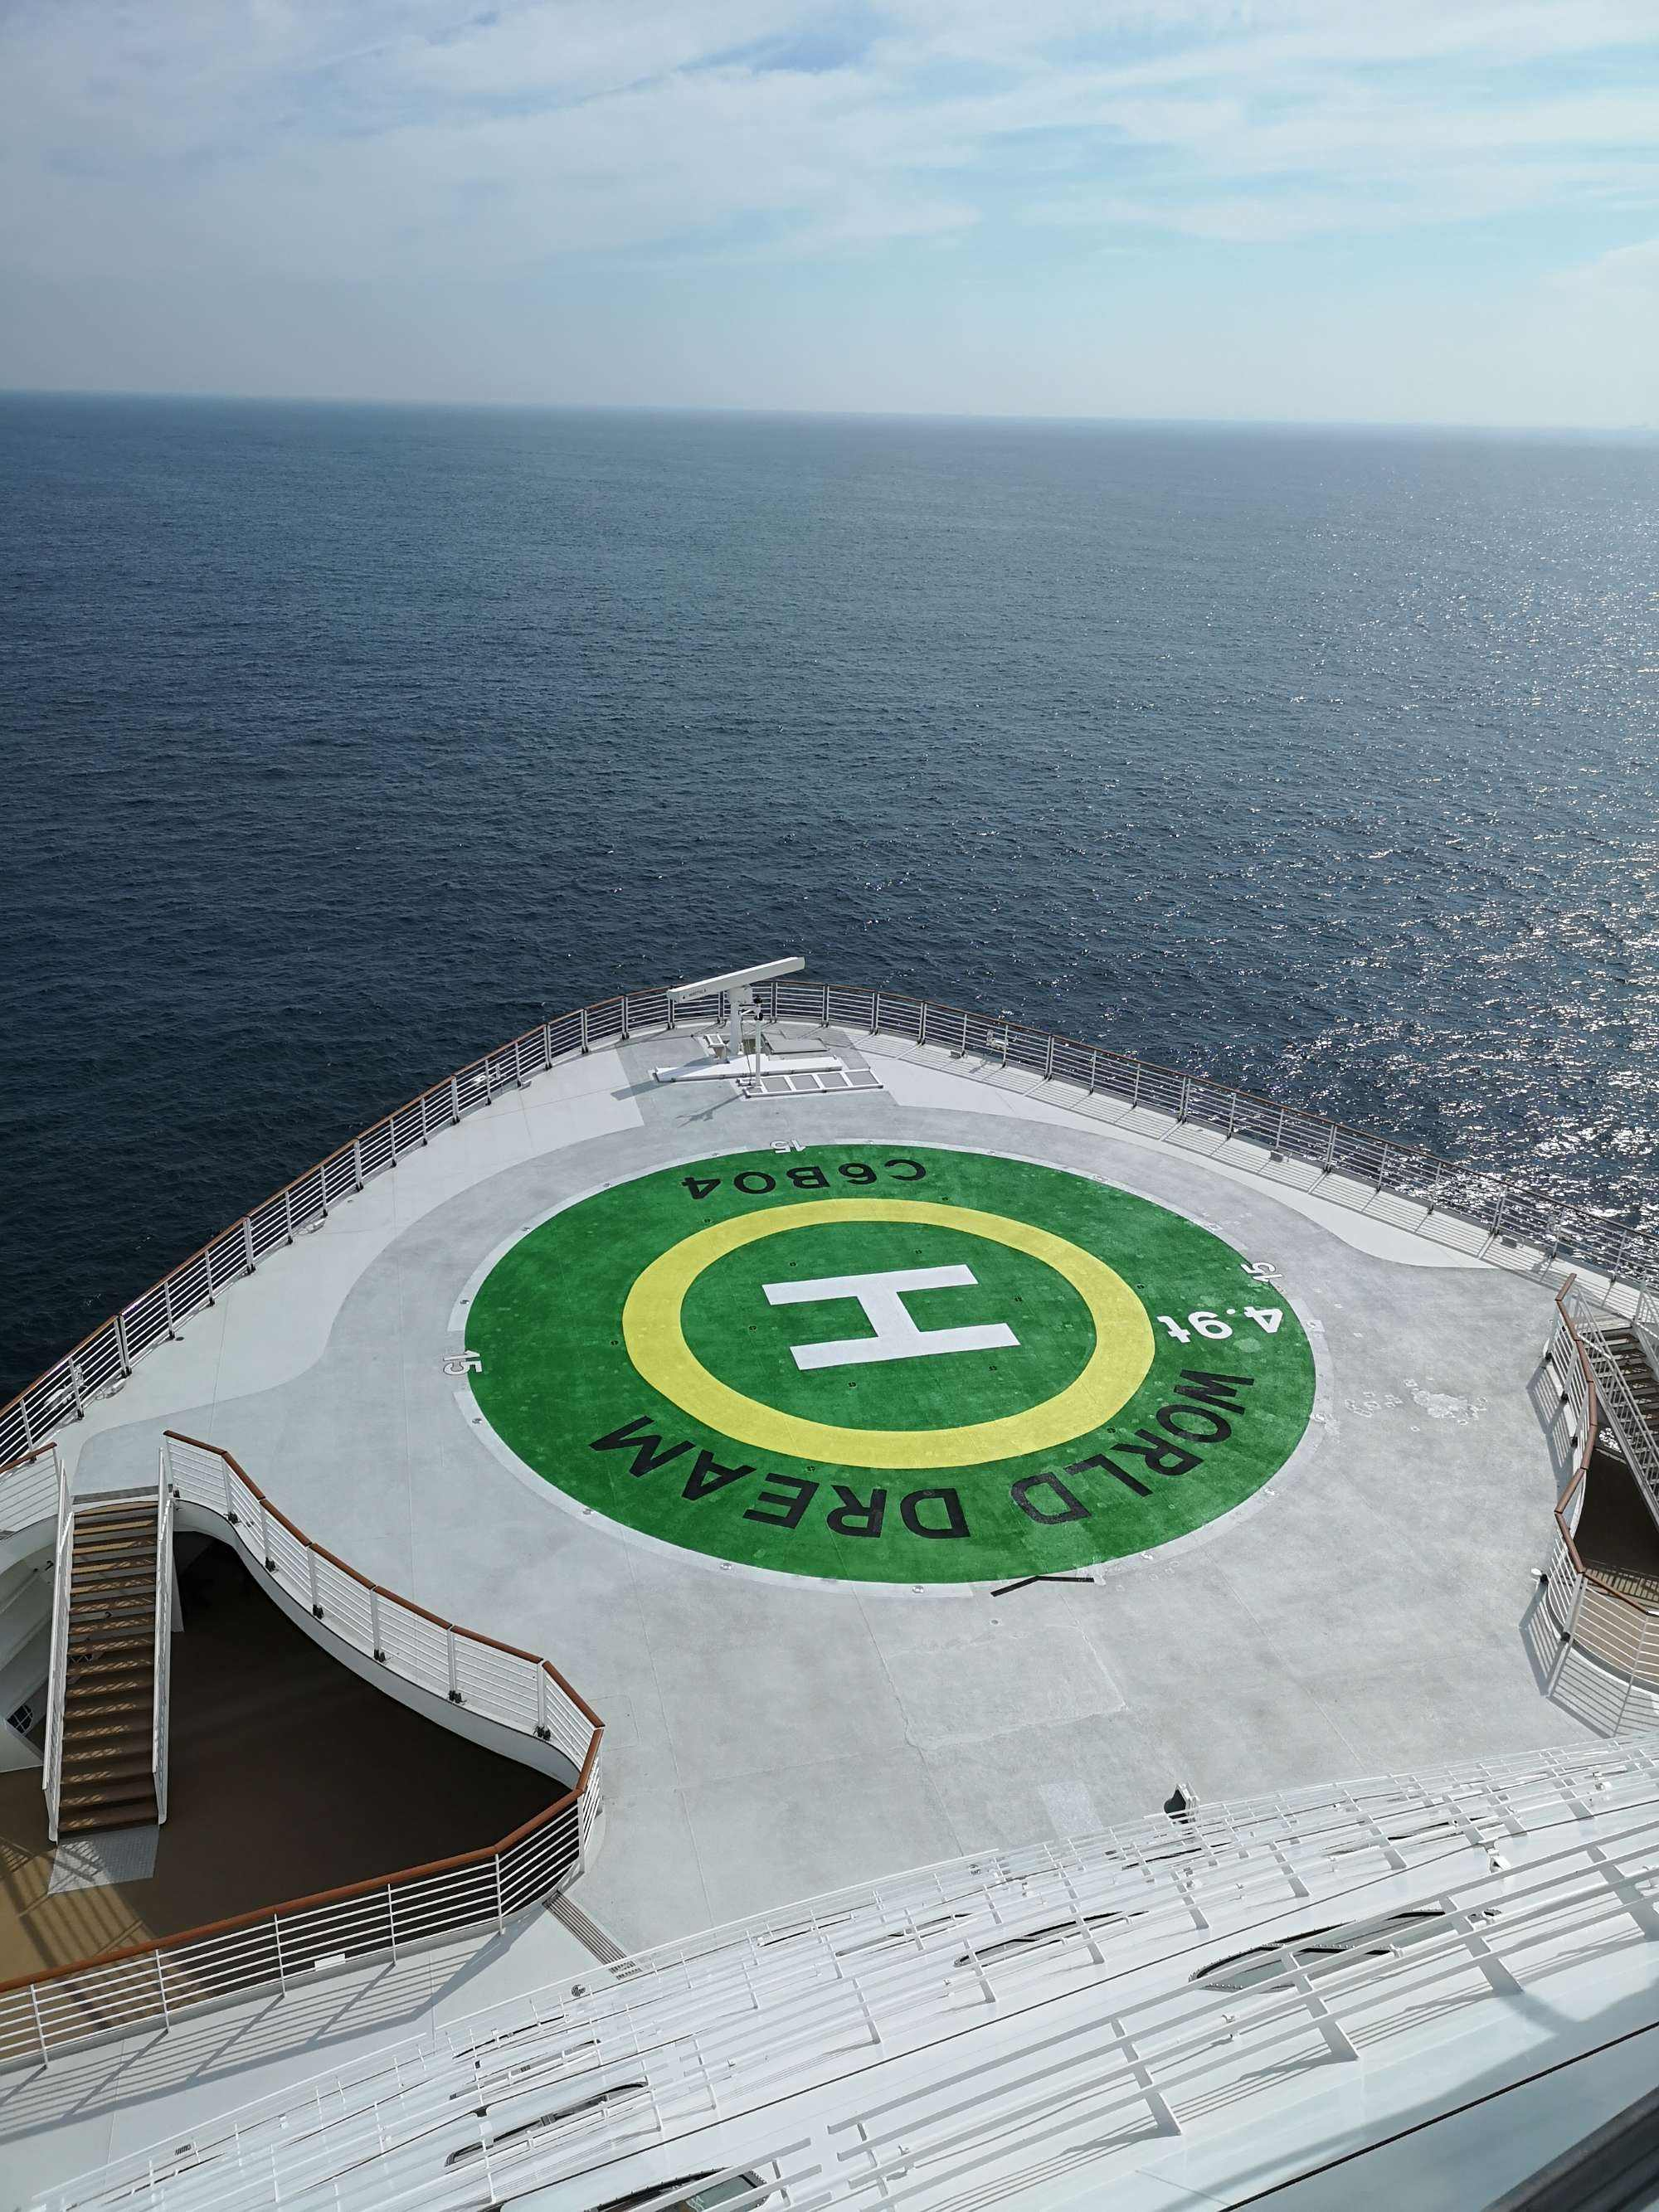H: (758, 1261, 1023, 1374)
